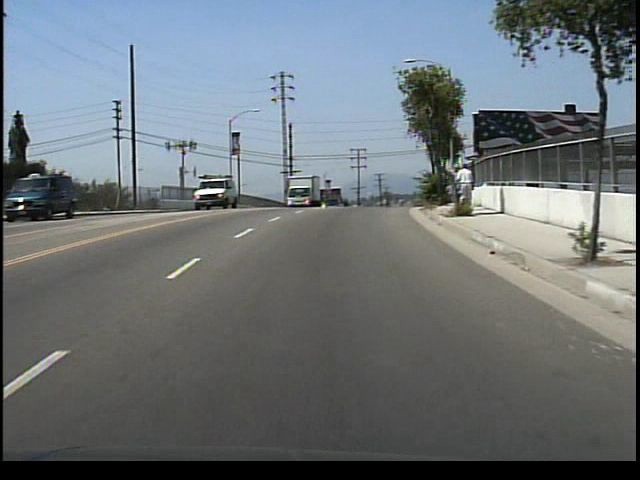person: (453, 162, 475, 216)
